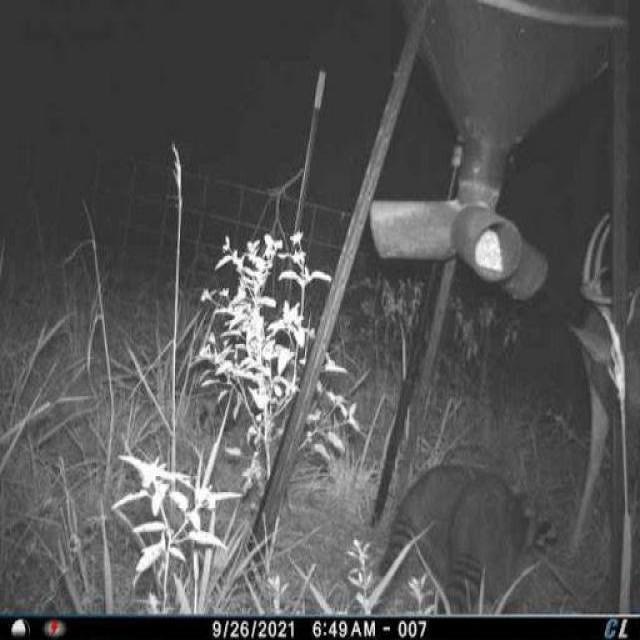deer: (565, 191, 640, 565)
